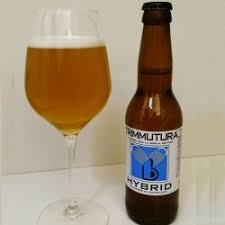beer: (124, 1, 179, 224)
